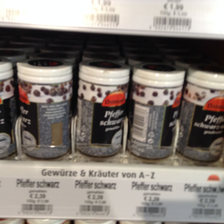spices: (15, 58, 74, 160), (76, 58, 131, 159), (130, 63, 185, 159), (179, 65, 224, 160)
